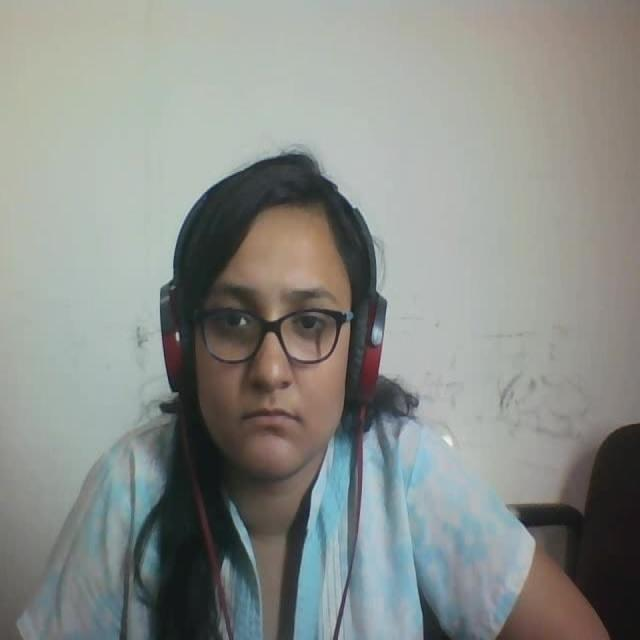Engaged: (170, 136, 396, 483)
